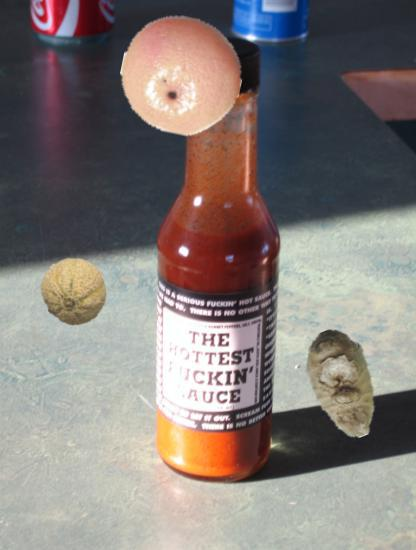Cantaloupe: (40, 257, 109, 326)
Ginger: (287, 328, 400, 441)
Grapefruit: (121, 14, 243, 136)
